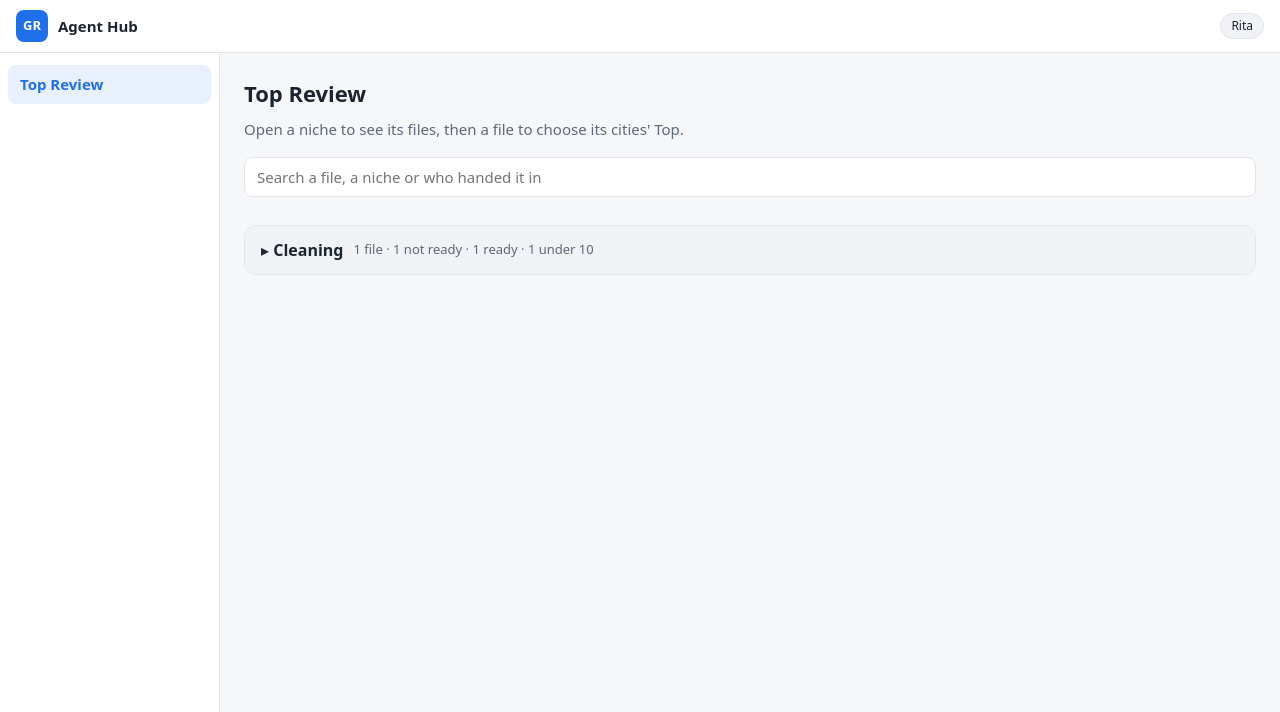
Test: cities under 10 are ticked on one page and saved at once
Click the button "▸ Cleaning 1 file · 1 not ready · 1 ready · 1 under 10": (308, 250) [245,226,1255,274]
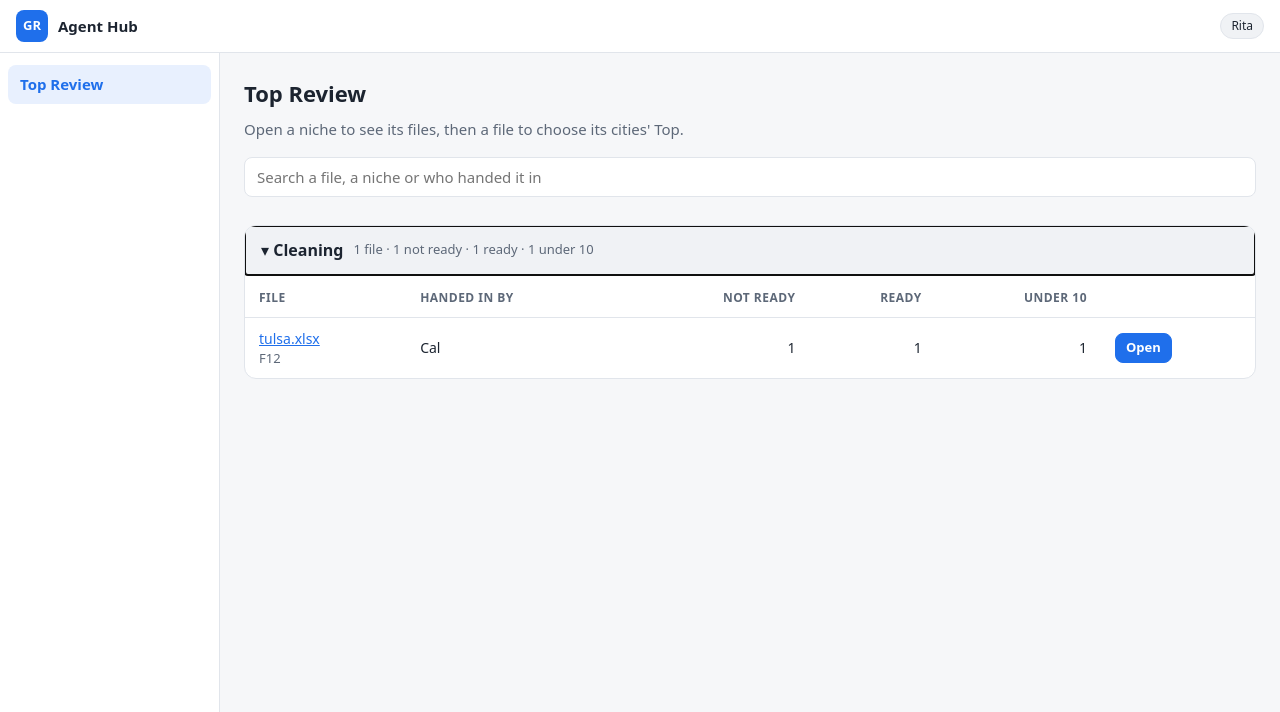
Click the button with aria-label "Open tulsa.xlsx": (1143, 348) [1115,333,1172,362]
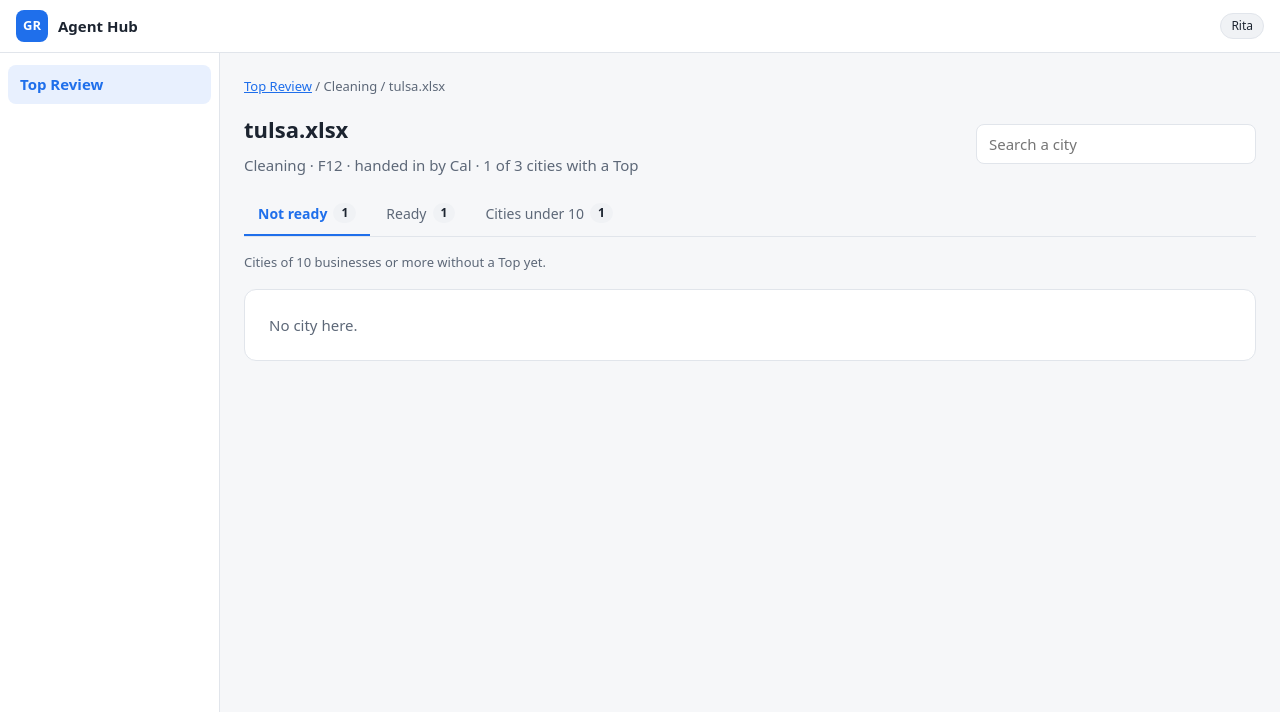
Click the button "Cities under 10 1": (549, 214) [471,192,627,236]
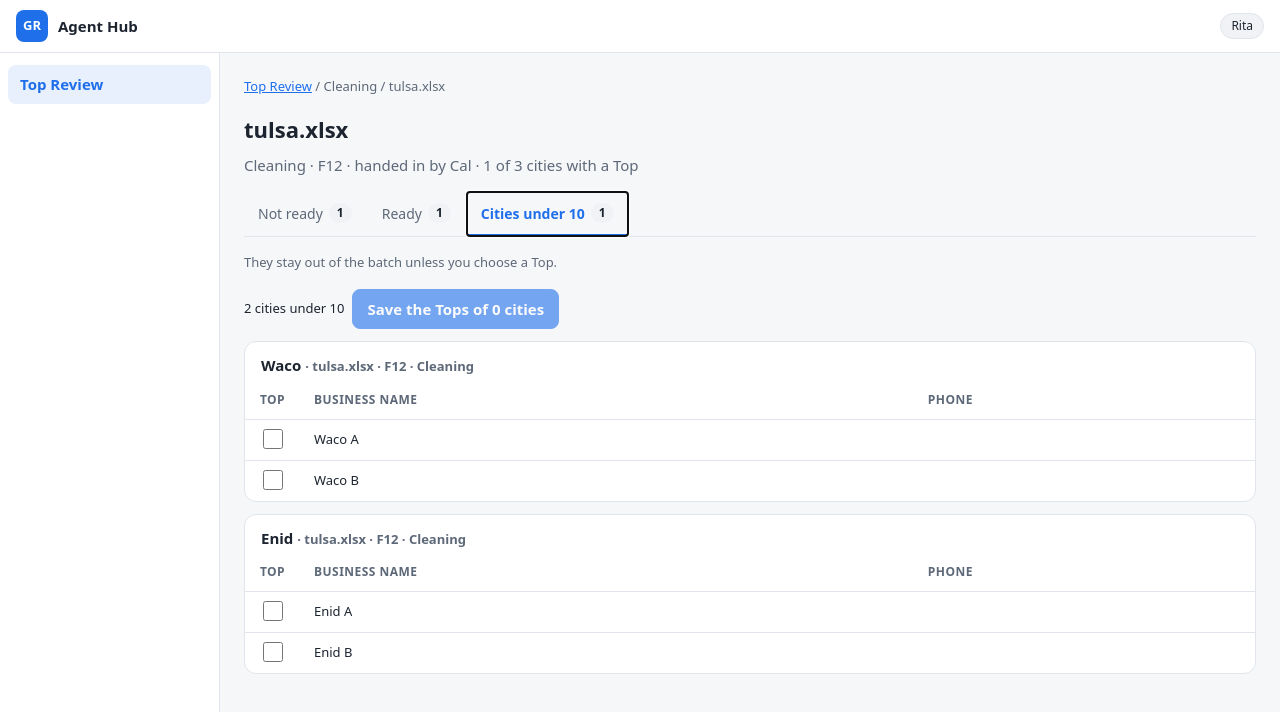
Click the checkbox named "Top: Waco B (Waco)": (273, 480) [263,470,283,490]
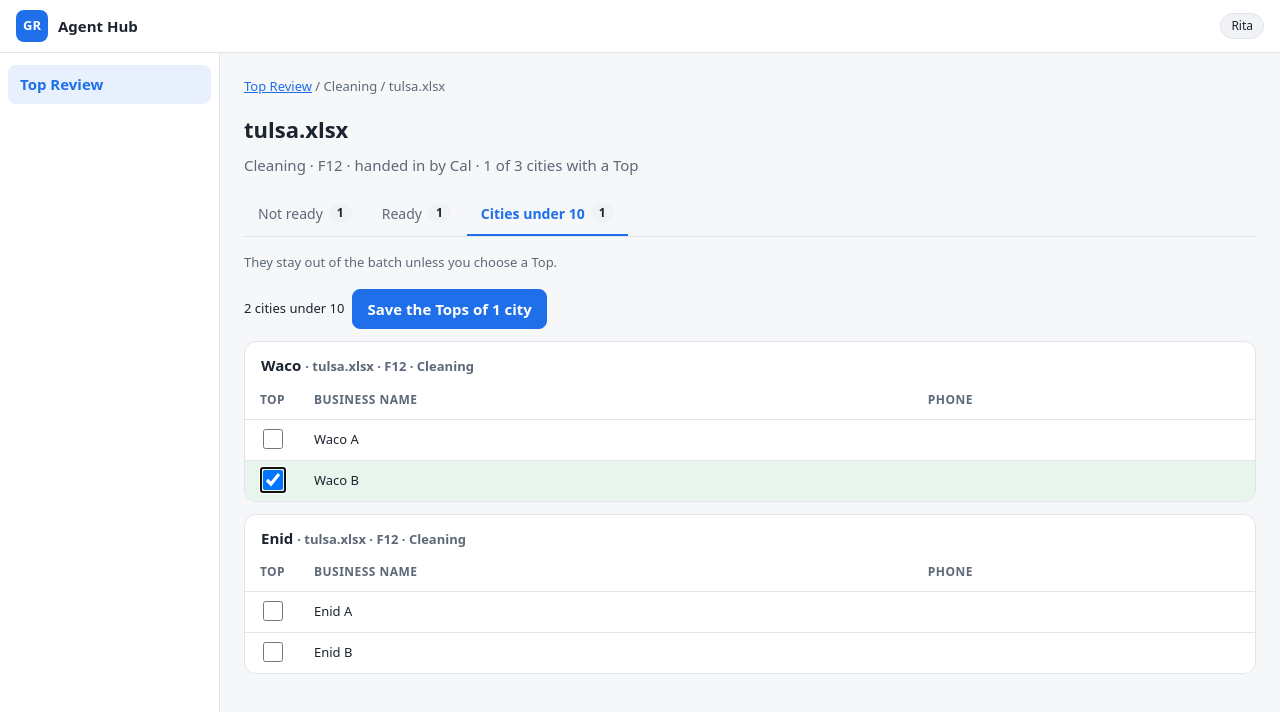
Click the checkbox named "Top: Enid A (Enid)": (273, 611) [263,601,283,621]
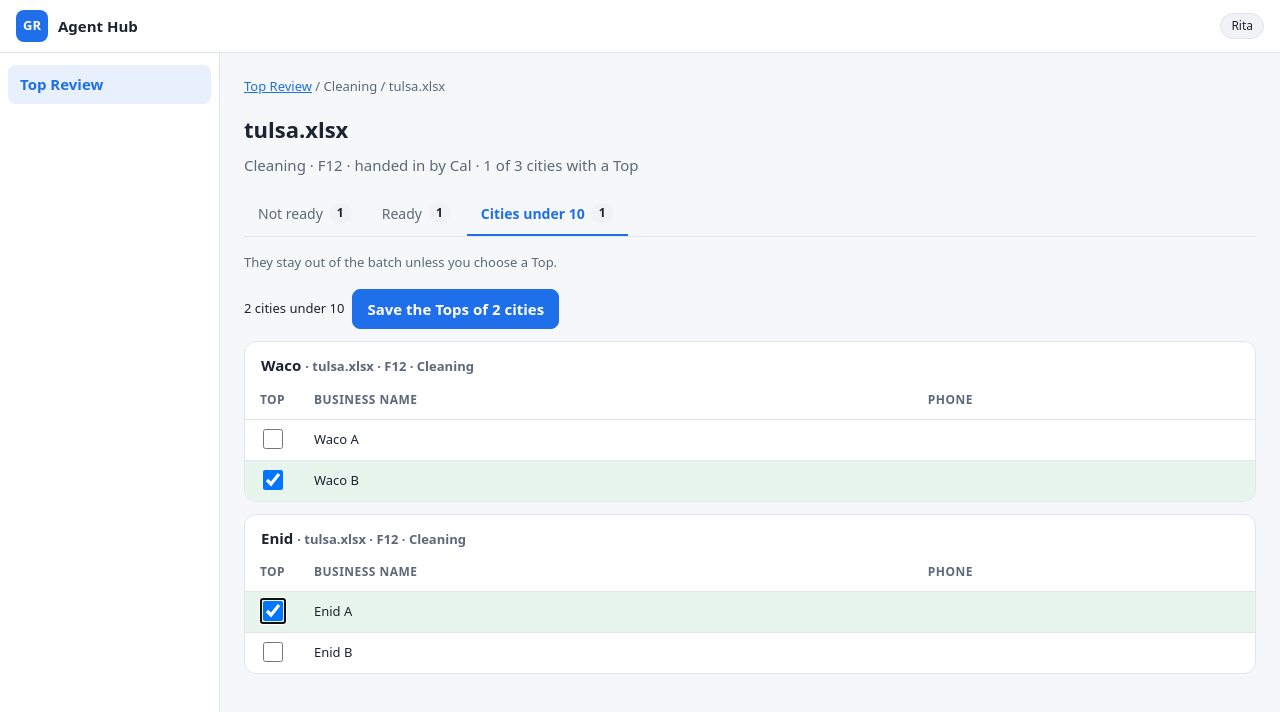
Click the button "Save the Tops of 2 cities": (456, 309) [352,288,559,329]
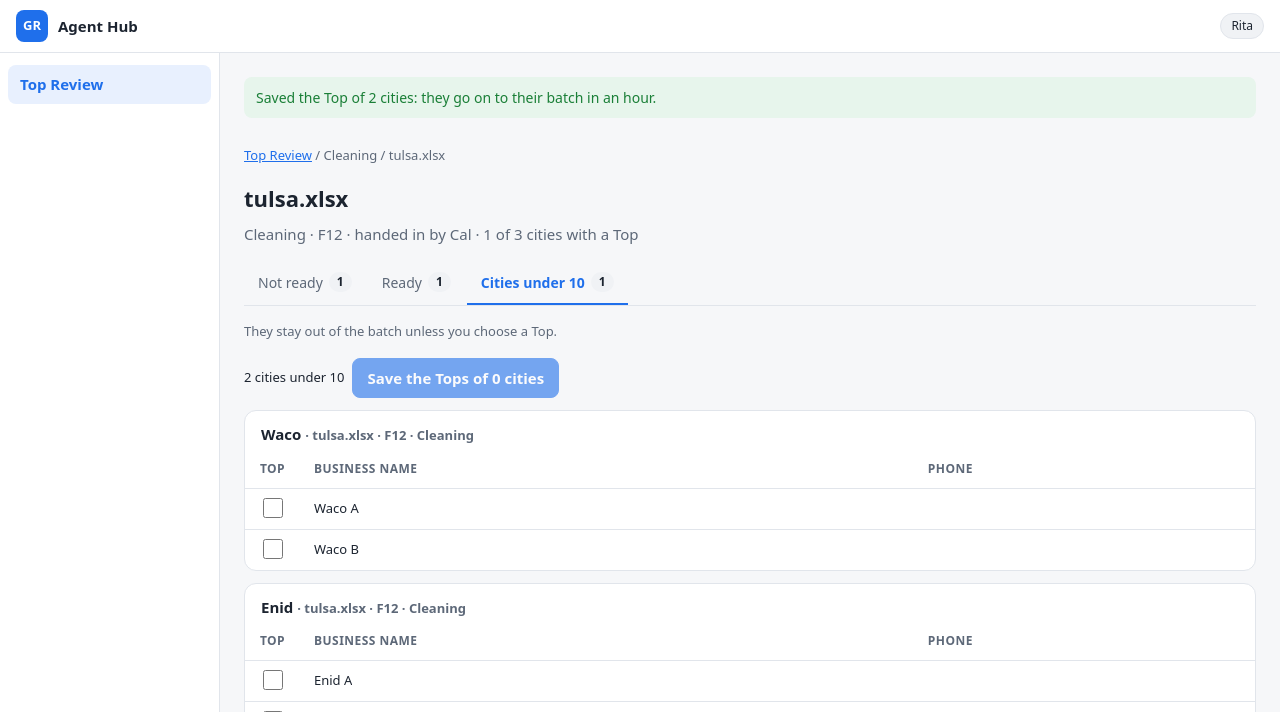
expect the text "Saved the Top of 2 cities: they go on to their batch in an hour." is shown: met, box [244,77,1256,118]
